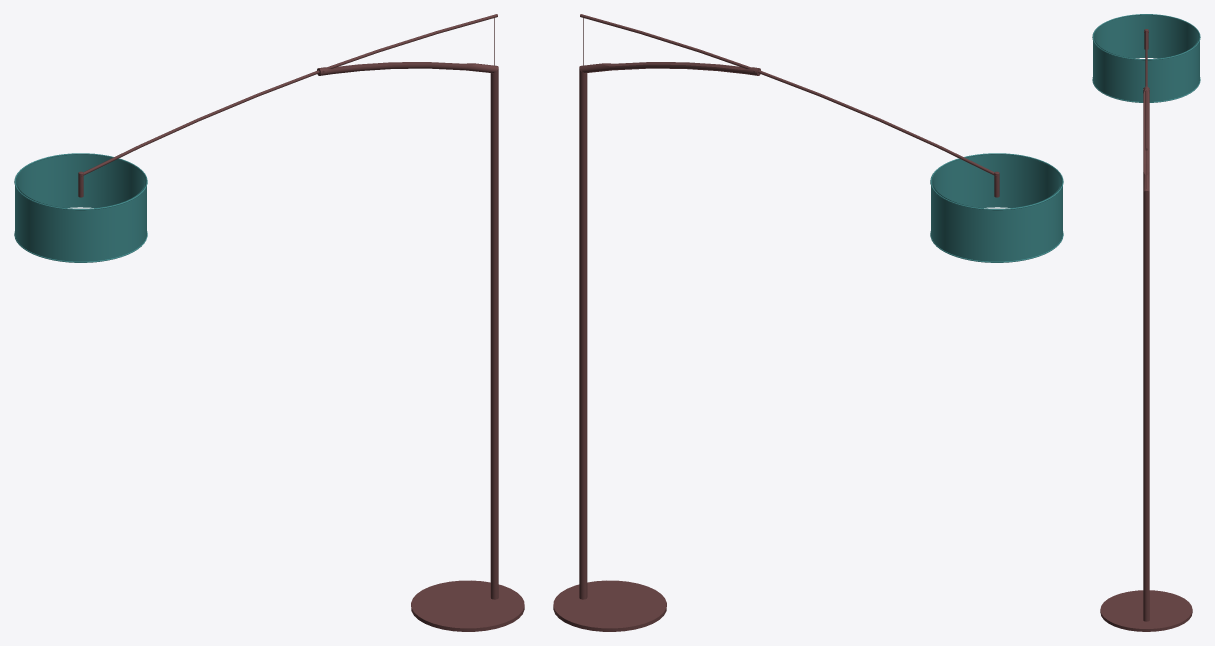
Rendered from Lamp_Floor001.fbx.
The picture shows the model from 3 angles, left to right: view 1: azimuth 30°, elevation 25°; view 2: azimuth 150°, elevation 25°; view 3: azimuth 270°, elevation 25°; orthographic projection. The views are drawn at different scales.
Visible parts, largest first — view 1: Lamp_Floor001; view 2: Lamp_Floor001; view 3: Lamp_Floor001.
Boxes of the visible parts, x1=… form: Lamp_Floor001: x1=14, y1=14, x2=524, y2=631; Lamp_Floor001: x1=553, y1=14, x2=1063, y2=631; Lamp_Floor001: x1=1092, y1=14, x2=1200, y2=631.
Size of the model in its own units: 216 by 245 by 50.5.
